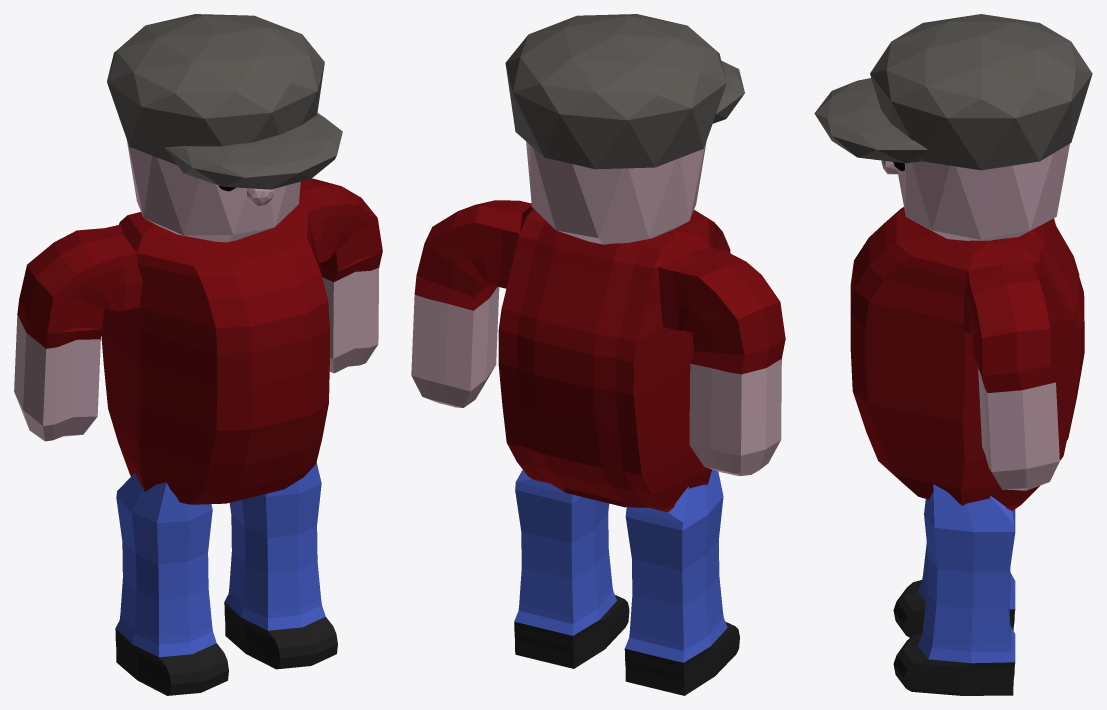
File: AnnoyingChild.fbx
3 views of the same model, side by side, from view 1: azimuth 30°, elevation 25°; view 2: azimuth 150°, elevation 25°; view 3: azimuth 270°, elevation 25° (orthographic).
Visible parts, largest first — view 1: MiddleSpine, Head, Rightelbow, LeftFoot, RightFoot, Rightarm, Pelvis, RightKnee, LeftKnee, Leftarm, Leftelbow, RightHip (+1 smaller); view 2: Head, MiddleSpine, Rightarm, Rightelbow, Leftarm, LeftFoot, RightFoot, Pelvis, Leftelbow, RightKnee, LeftKnee, RightHip (+1 smaller); view 3: Head, MiddleSpine, LeftFoot, Leftarm, Leftelbow, LeftKnee, Pelvis, LeftHip, RightFoot.
Boxes of the visible parts, <box> form: MiddleSpine: <box>101,202,329,462</box>; Head: <box>107,14,342,242</box>; Rightelbow: <box>19,224,142,332</box>; LeftFoot: <box>224,551,337,669</box>; RightFoot: <box>115,578,228,695</box>; Rightarm: <box>14,299,101,441</box>; Pelvis: <box>107,397,322,504</box>; RightKnee: <box>116,498,212,603</box>; LeftKnee: <box>229,483,321,577</box>; Leftarm: <box>319,251,382,373</box>; Leftelbow: <box>299,178,382,271</box>; RightHip: <box>116,473,212,523</box>; Head: <box>505,14,744,244</box>; MiddleSpine: <box>498,205,730,465</box>; Rightarm: <box>689,339,785,476</box>; Rightelbow: <box>658,247,785,355</box>; Leftarm: <box>411,275,499,407</box>; LeftFoot: <box>514,553,629,668</box>; RightFoot: <box>624,580,739,695</box>; Pelvis: <box>505,432,711,512</box>; Leftelbow: <box>416,200,531,297</box>; RightKnee: <box>625,496,723,605</box>; LeftKnee: <box>515,490,609,578</box>; RightHip: <box>625,469,723,530</box>; Head: <box>814,14,1092,240</box>; MiddleSpine: <box>850,207,1084,453</box>; LeftFoot: <box>893,596,1015,695</box>; Leftarm: <box>978,365,1059,490</box>; Leftelbow: <box>964,262,1051,375</box>; LeftKnee: <box>924,515,1015,609</box>; Pelvis: <box>864,427,1070,510</box>; LeftHip: <box>924,484,1015,532</box>; RightFoot: <box>893,543,1015,637</box>.
Size of the model in its own units: 632 by 1098 by 448.
